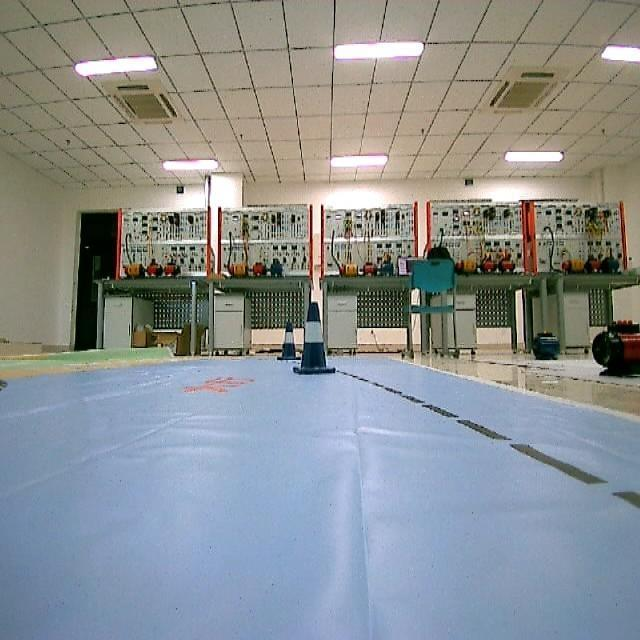obstacle: (295, 299, 334, 376), (282, 321, 301, 362)
